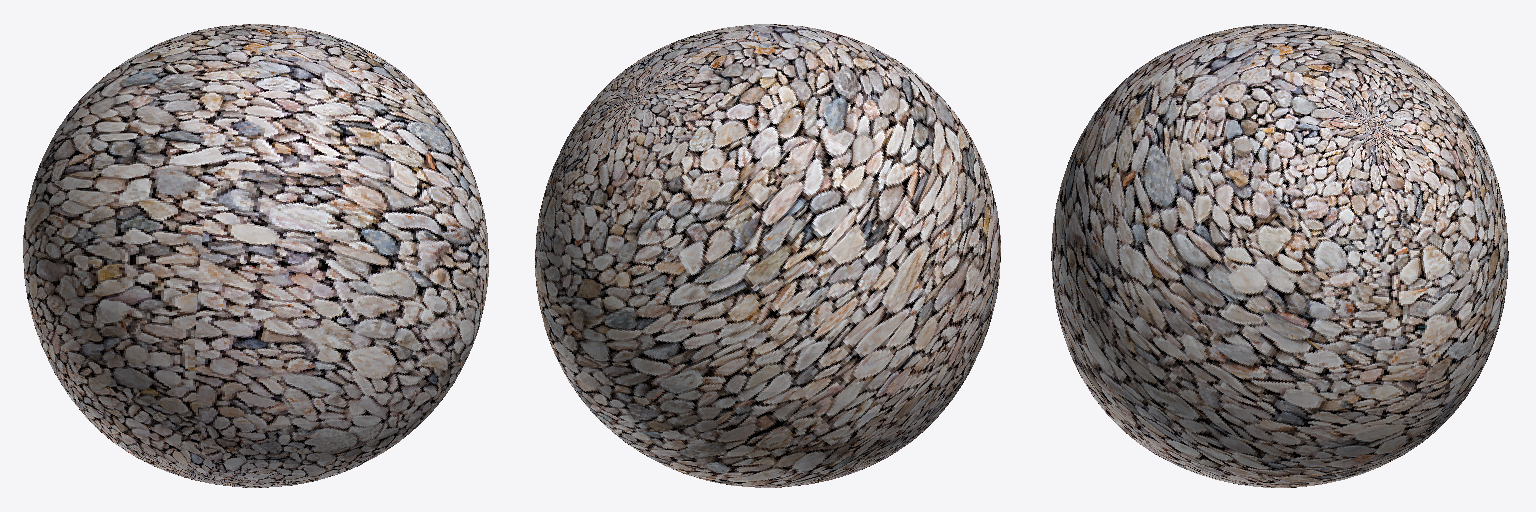
3 renders of one model, left to right at view 1: azimuth 30°, elevation 25°; view 2: azimuth 150°, elevation 25°; view 3: azimuth 270°, elevation 25°, orthographic.
Parts seen in each view (by area): view 1: Cube_Cube.001; view 2: Cube_Cube.001; view 3: Cube_Cube.001.
Part boxes in pixels (x1,y1,x2,y2): Cube_Cube.001: (23,24,488,487); Cube_Cube.001: (535,24,1000,487); Cube_Cube.001: (1051,24,1508,487).
Bounding box in the file's own units: 1.68 × 1.68 × 1.68.
1 materials, 1 textured.